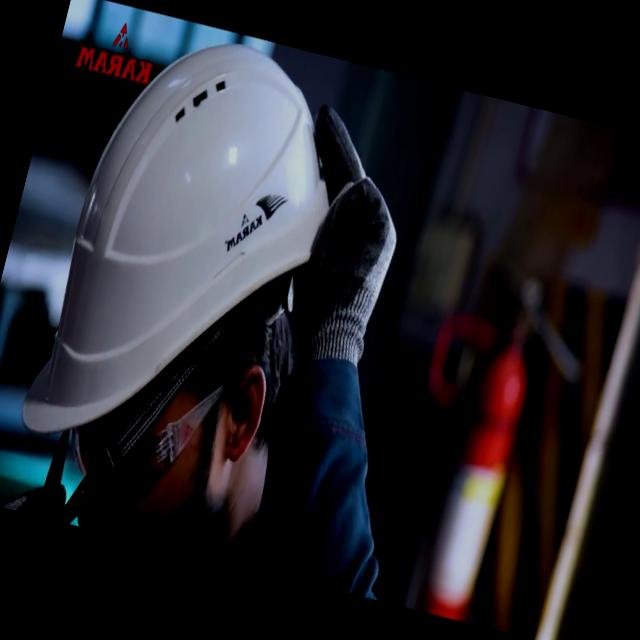goggles: (42, 344, 230, 533)
helmet: (0, 11, 375, 533)
